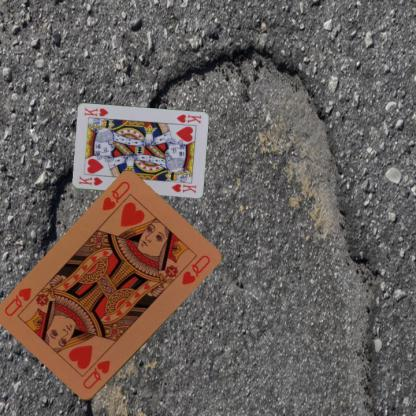Kh: (174, 112, 202, 126), (76, 174, 104, 187)
Qh: (99, 178, 132, 212), (80, 358, 112, 391)
